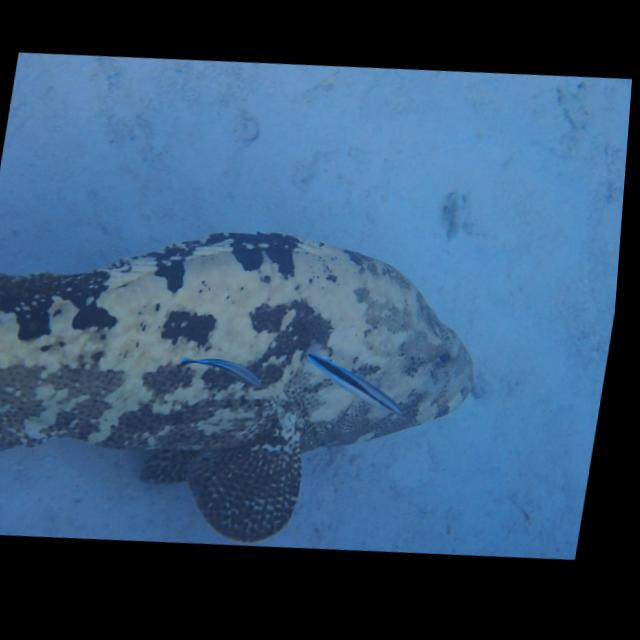Groupers: (0, 194, 502, 571)
